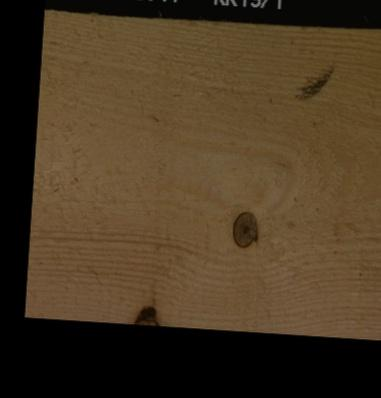dry_knot: (230, 210, 258, 249)
edge_knot: (131, 302, 160, 324)
